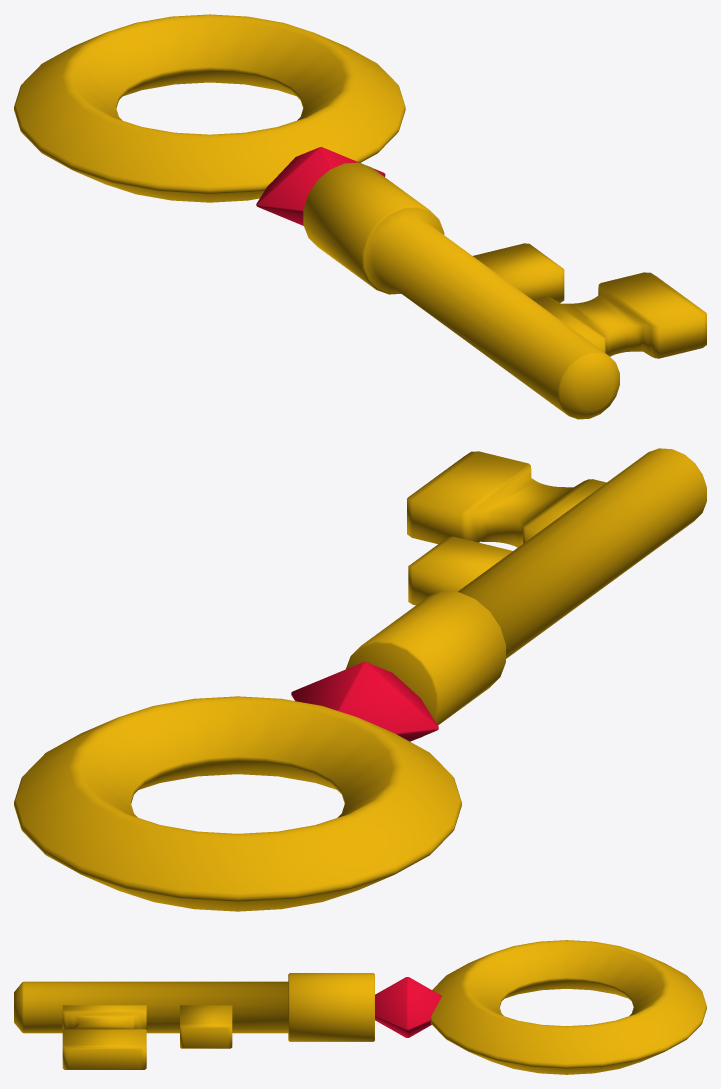
File: SM_Key.fbx
3 views of the same model, one above another, from view 1: azimuth 30°, elevation 25°; view 2: azimuth 150°, elevation 25°; view 3: azimuth 270°, elevation 25° (orthographic). The views are drawn at different scales.
Visible parts, largest first — view 1: Key; view 2: Key; view 3: Key.
Boxes of the visible parts, x1,y1,x2,y2 form: Key: (14,14,706,419); Key: (14,448,706,911); Key: (14,940,706,1074).
Bounding box in the file's own units: 14.96 × 3.68 × 36.95.
